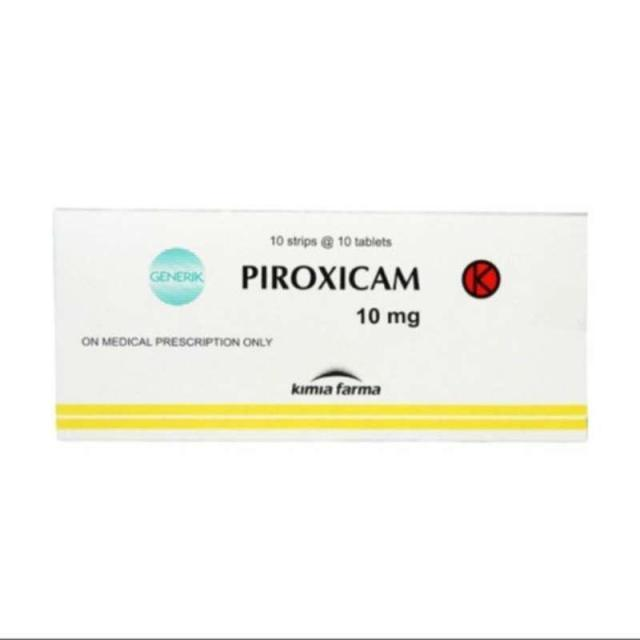drug-name: (236, 258, 428, 300)
